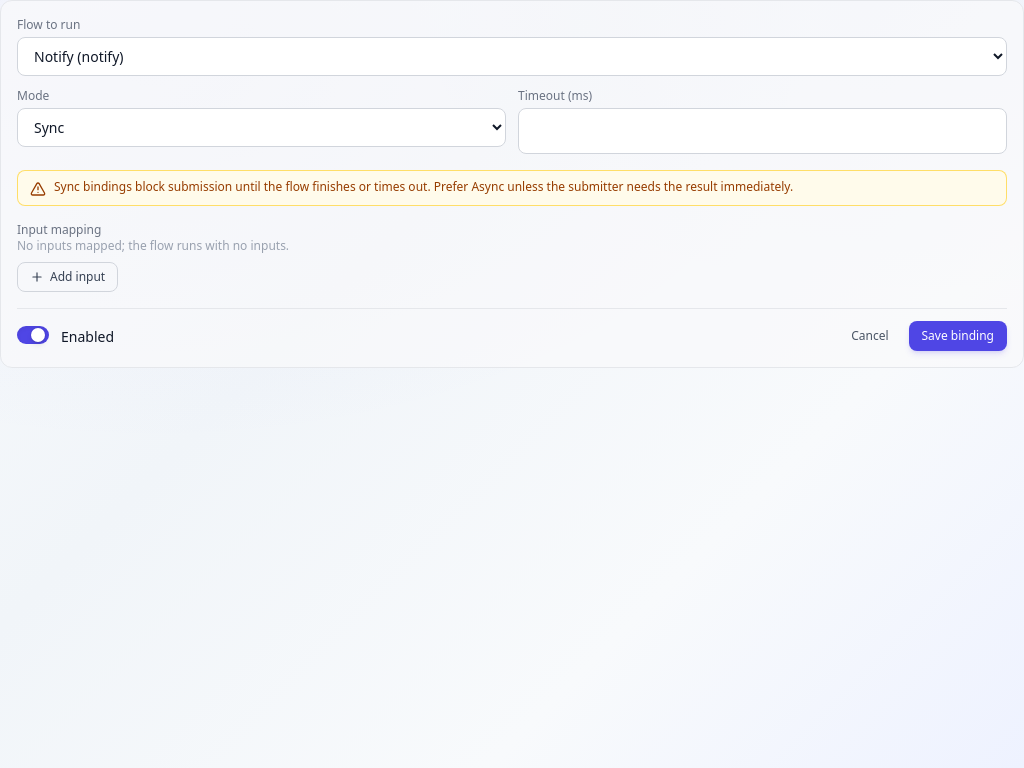
Test case: the sync timeout › falls back to the default when left empty
Clear the number field with id "timeout-input" at (762, 131), box [518,108,1007,154]
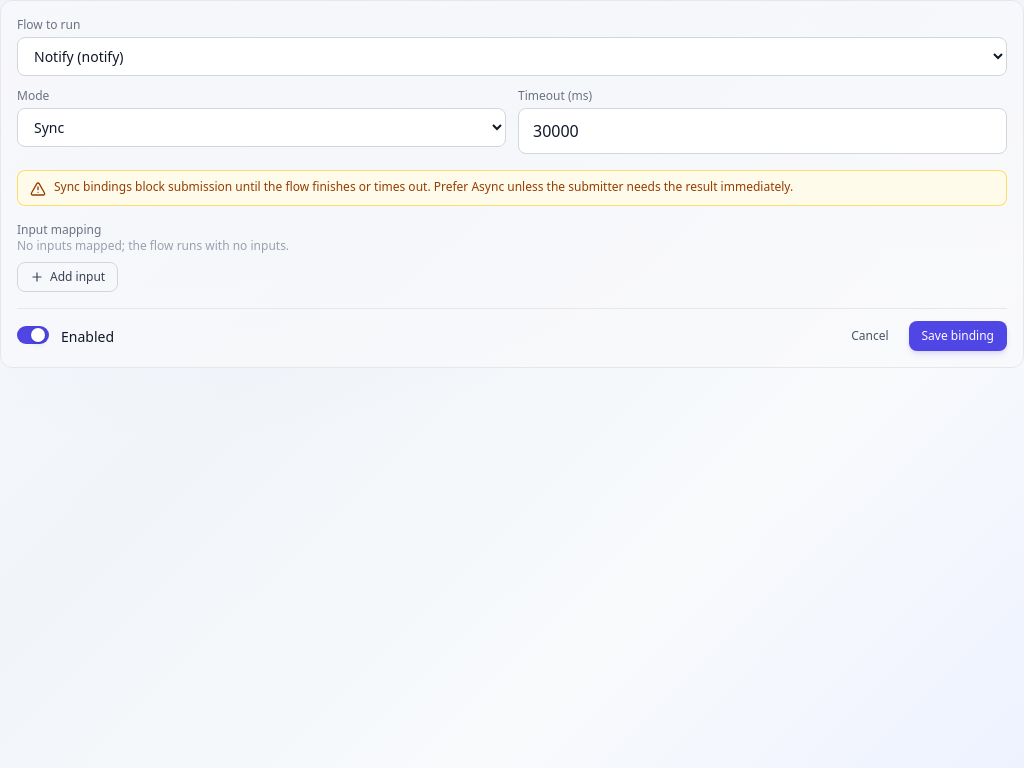
Expected: the number field with id "timeout-input" holds "30000", [518,108,1007,154]
